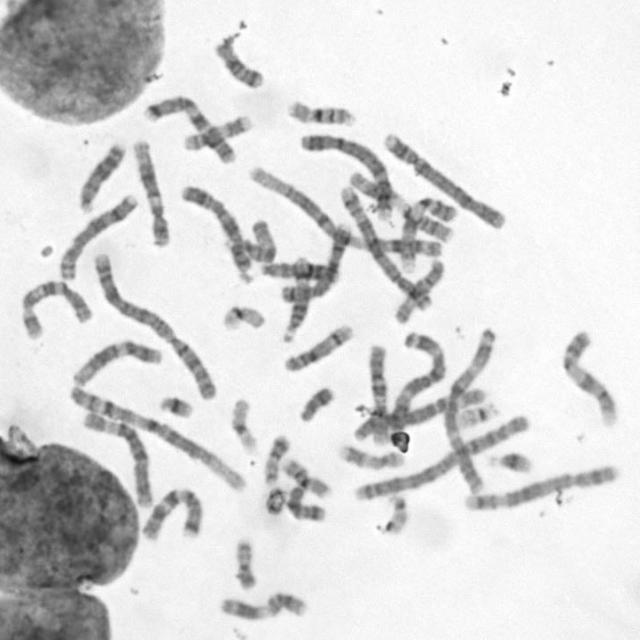A1: (243, 161, 447, 260), (68, 383, 251, 493)
A2: (87, 248, 221, 401), (349, 410, 533, 505)
A3: (439, 321, 499, 494), (384, 326, 448, 439)
B4: (380, 128, 511, 232), (295, 129, 399, 220)
B5: (339, 185, 437, 313), (461, 460, 619, 515)
C10: (16, 276, 93, 340), (364, 341, 389, 446)
C11: (344, 168, 456, 246), (214, 588, 309, 623)
C12: (69, 336, 166, 387), (128, 135, 171, 249)
C6: (348, 382, 491, 442), (79, 407, 157, 510)
C7: (140, 90, 240, 166), (136, 482, 206, 543)
C8: (54, 188, 140, 283), (280, 223, 356, 307)
C9: (558, 326, 620, 429), (393, 191, 459, 270)
D13: (74, 136, 128, 214), (258, 260, 341, 286)
D14: (281, 321, 355, 374), (278, 255, 316, 345)
D15: (392, 258, 446, 325), (240, 214, 278, 264)
E16: (278, 453, 334, 499), (282, 96, 359, 128)
E17: (180, 110, 254, 152), (335, 440, 407, 470)
E18: (211, 36, 266, 91), (284, 481, 329, 524)
F19: (225, 392, 260, 454), (218, 300, 268, 332)
F20: (260, 430, 292, 486), (230, 534, 259, 592)
G21: (485, 446, 535, 476), (154, 391, 196, 420)
G22: (455, 400, 501, 432), (381, 488, 412, 535)
X: (176, 180, 256, 283)
Y: (296, 382, 336, 424)
